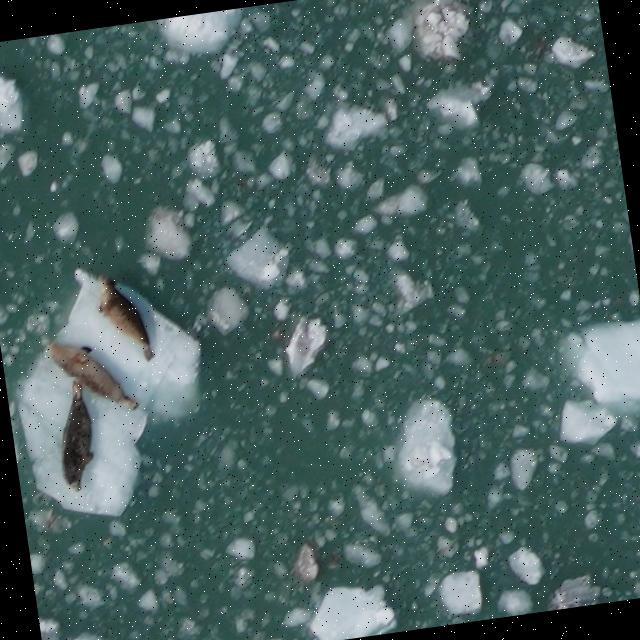seal: (40, 324, 142, 425), (89, 262, 160, 373), (45, 375, 102, 497)
